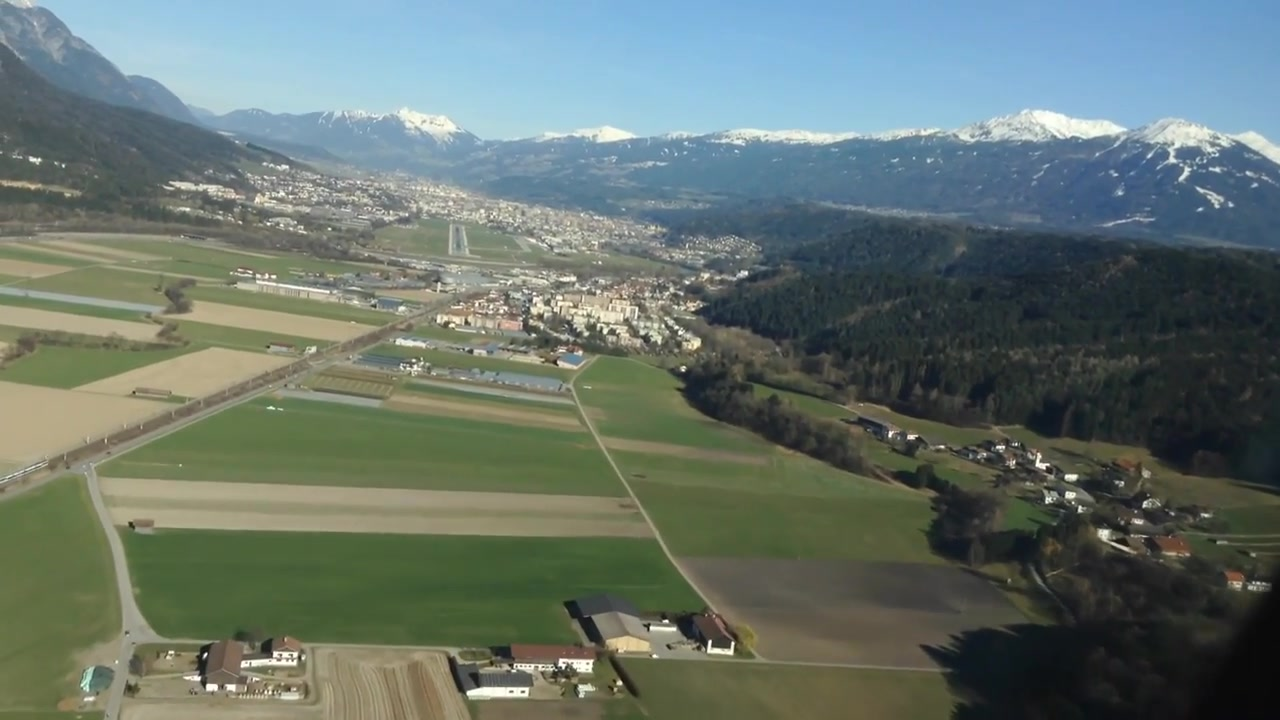runway: (446, 222, 470, 258)
